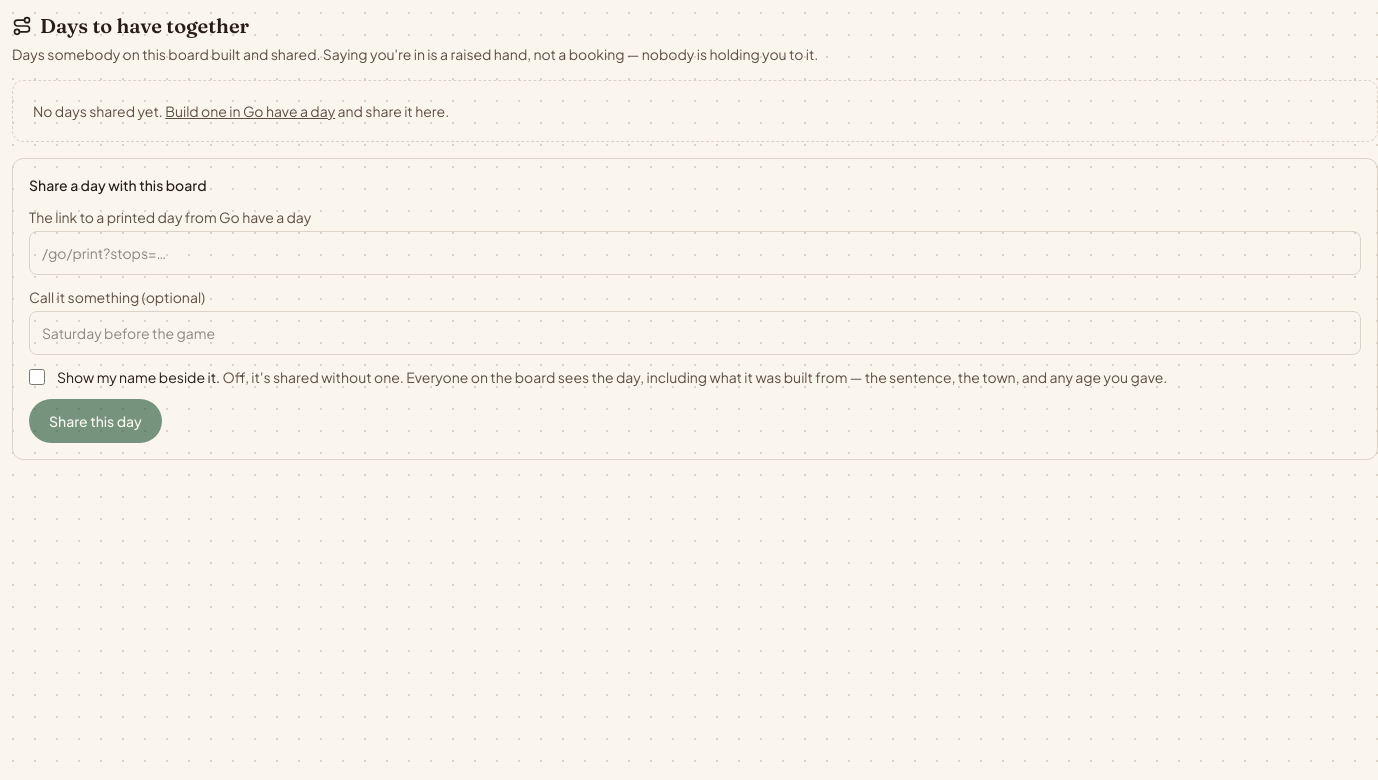
Test: days to have together › shares a pasted day unnamed unless the box is ticked
The image size is (1378, 780).
Type "/go/print?stops=a" into the field with placeholder "/go/print?stops=…". click: (695, 253)
box: [29,231,1361,275]
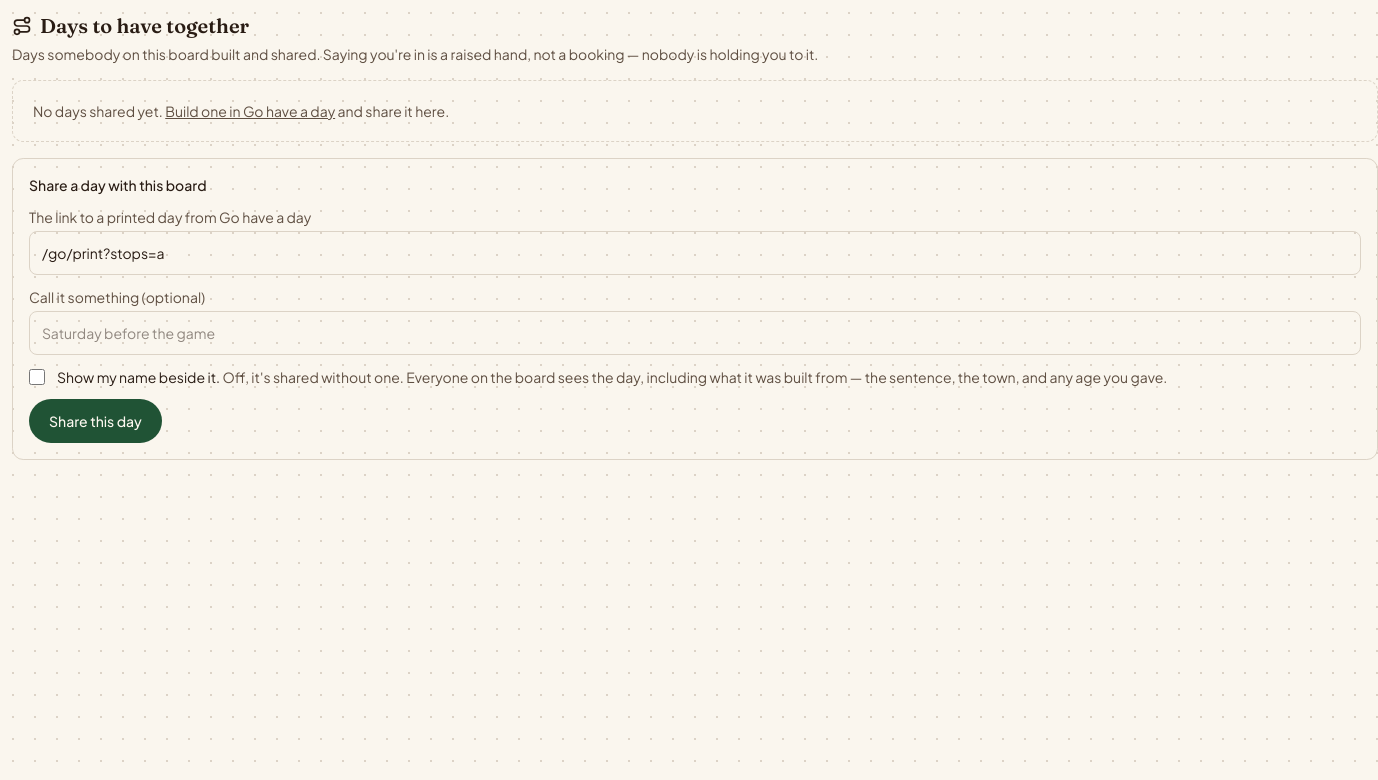
Click the button "Share this day". click: (95, 421)
box: [29,399,162,443]
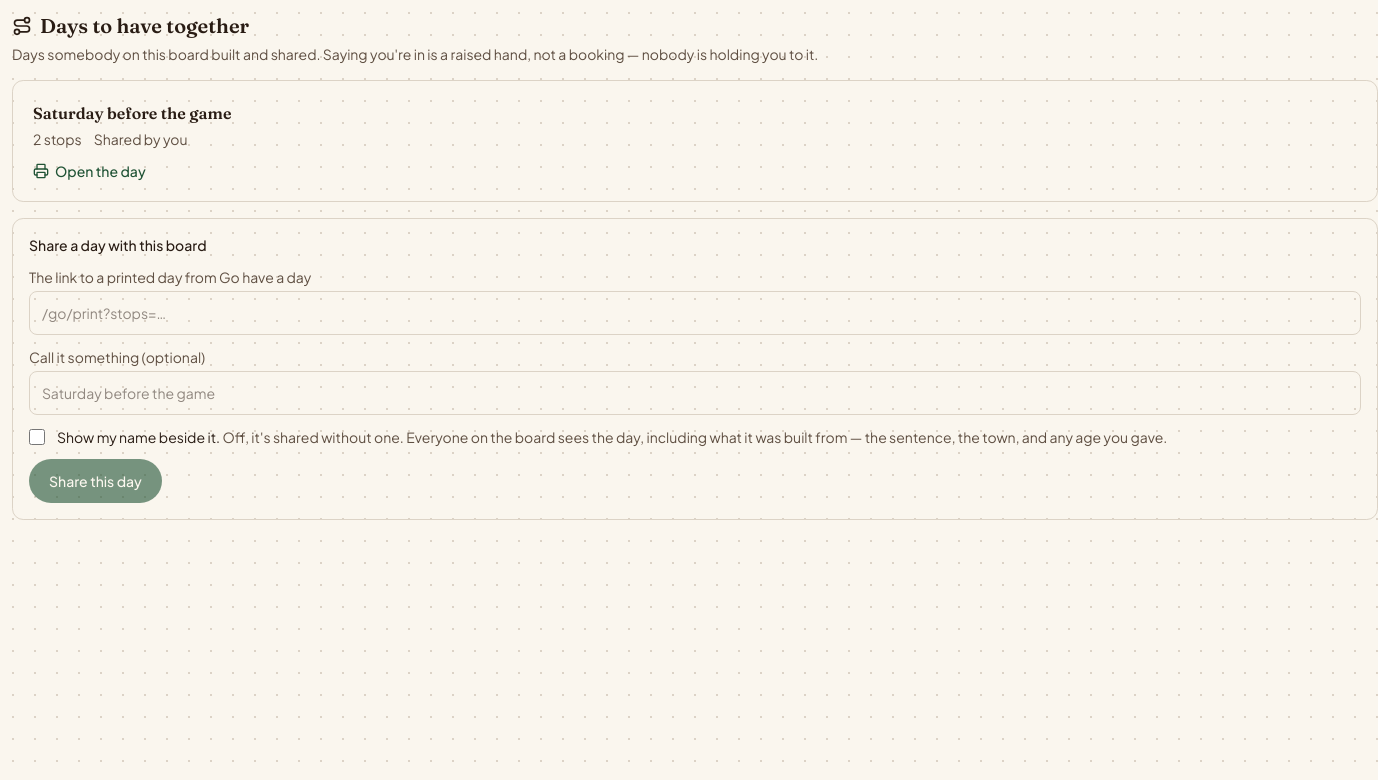
Result: the text "Shared by you" is shown at [94,129,188,149]
